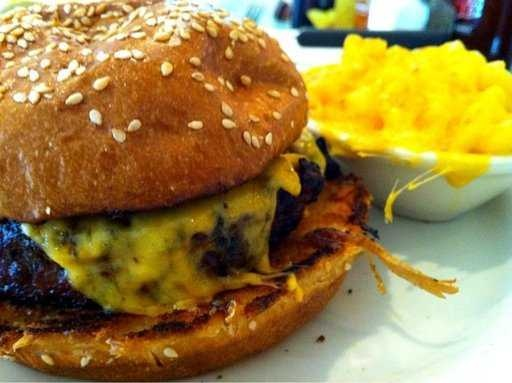hamburger: (3, 4, 361, 370)
